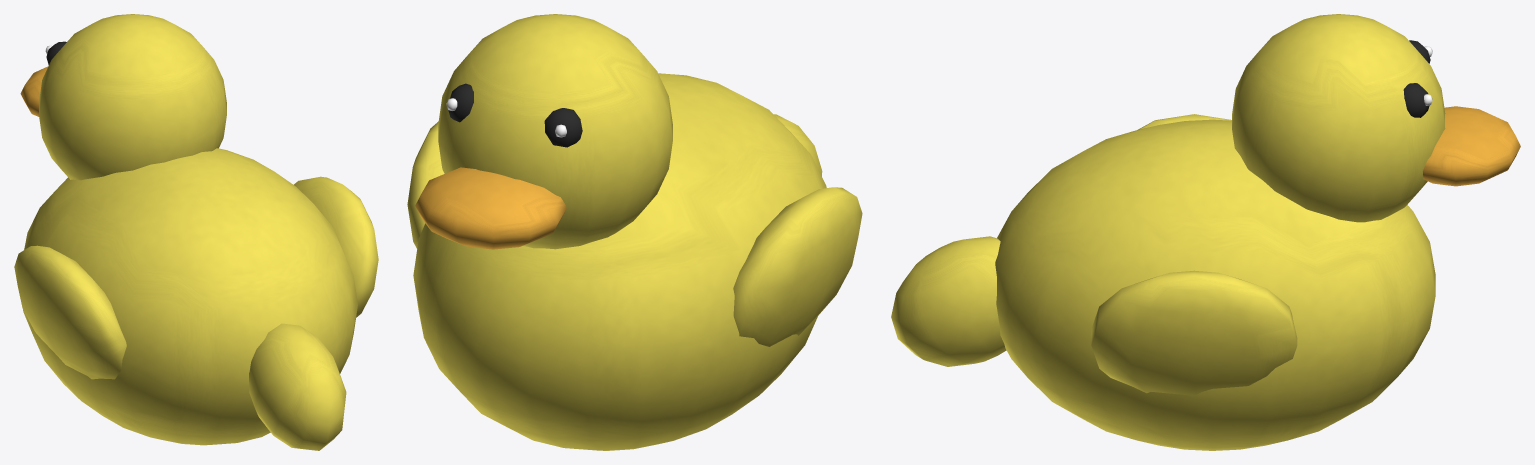
File: duck.glb
3 renders of one model, left to right at view 1: azimuth 30°, elevation 25°; view 2: azimuth 150°, elevation 25°; view 3: azimuth 270°, elevation 25°, orthographic. The views are drawn at different scales.
Parts seen in each view (by area): view 1: duck_body; view 2: duck_body; view 3: duck_body.
Boxes of the visible parts, x1,y1,x2,y2 form: duck_body: (14, 14, 378, 450); duck_body: (407, 14, 862, 450); duck_body: (891, 14, 1520, 450).
Size of the model in its own units: 0.4622 by 0.5 by 0.6982.
4 materials, 2 textured.
